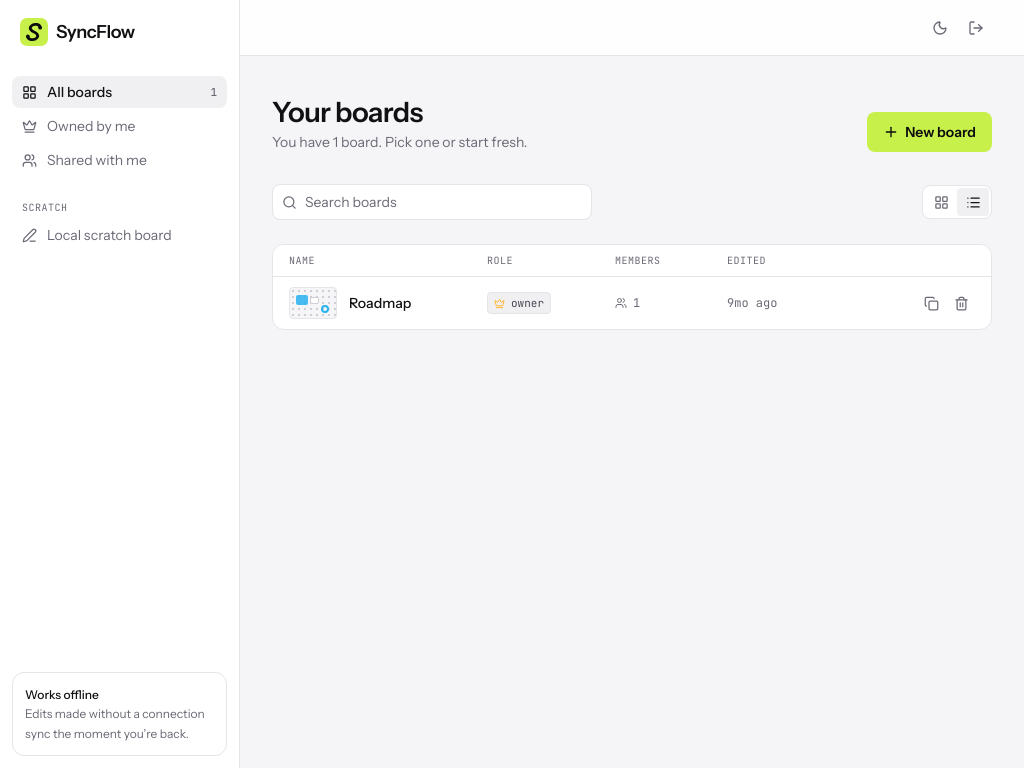
Test: DashboardPage › surfaces a failed duplicate
Click the button named "duplicate roadmap" at (931, 303), box 917,289 -> 945,317
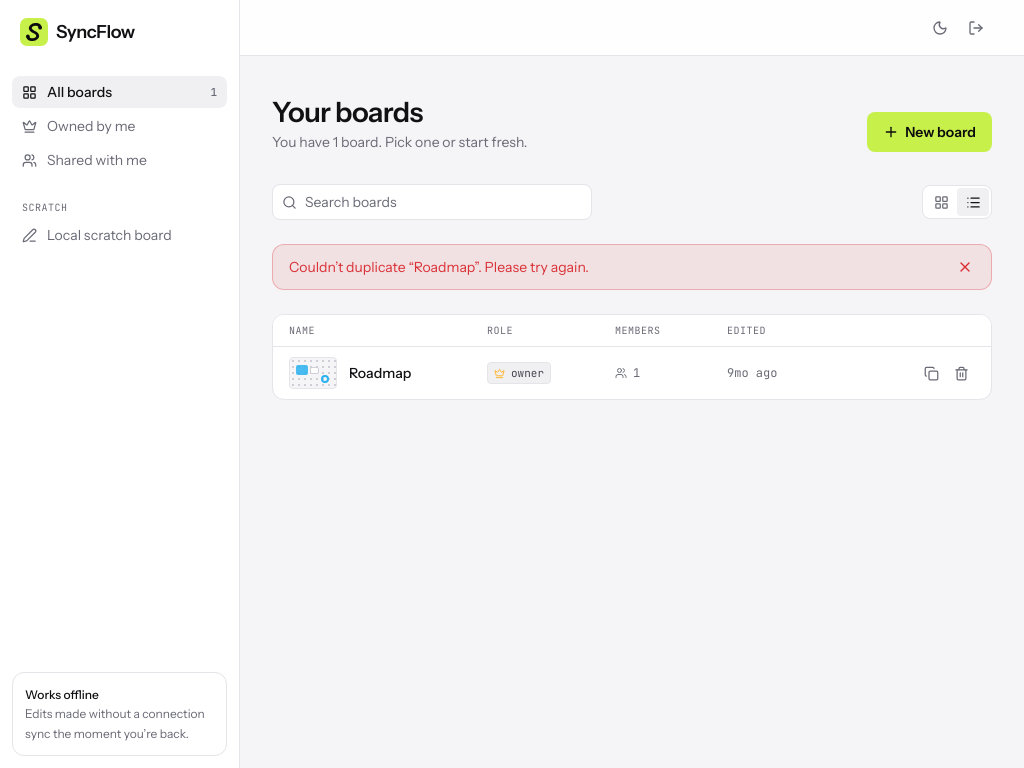
Check: the text "Couldn’t duplicate “Roadmap”. Please try again." is shown, box 289,257 -> 589,277
